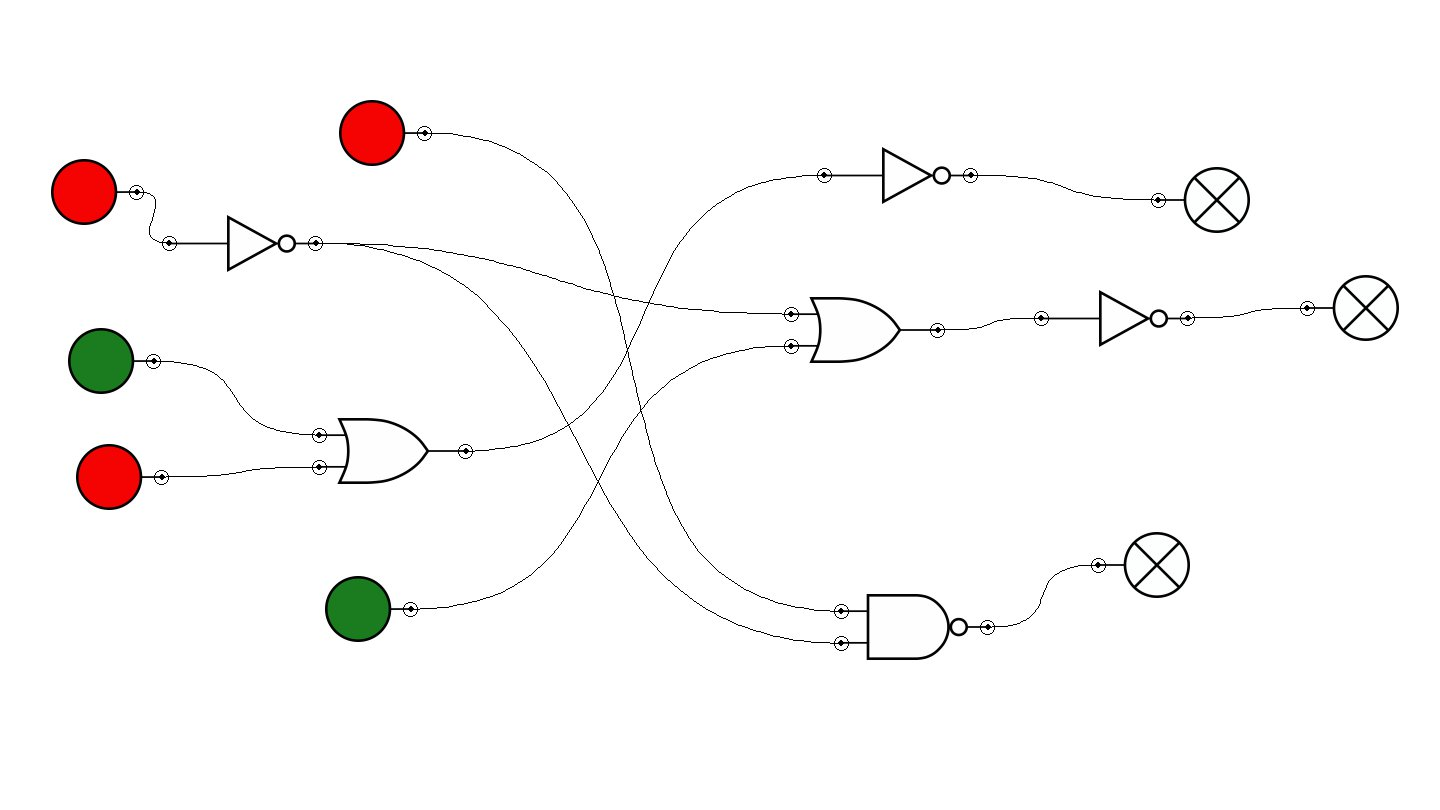bulb: (1091, 532, 1190, 598), (1300, 275, 1399, 341), (1151, 167, 1250, 233)
nand: (834, 594, 995, 660)
not: (1034, 290, 1195, 347), (817, 147, 978, 204), (162, 215, 323, 272)
or: (784, 297, 945, 363), (312, 418, 473, 484)
switch_False: (51, 159, 144, 225), (339, 100, 432, 166), (76, 444, 169, 510)
switch_True: (68, 328, 161, 394), (325, 576, 418, 642)
